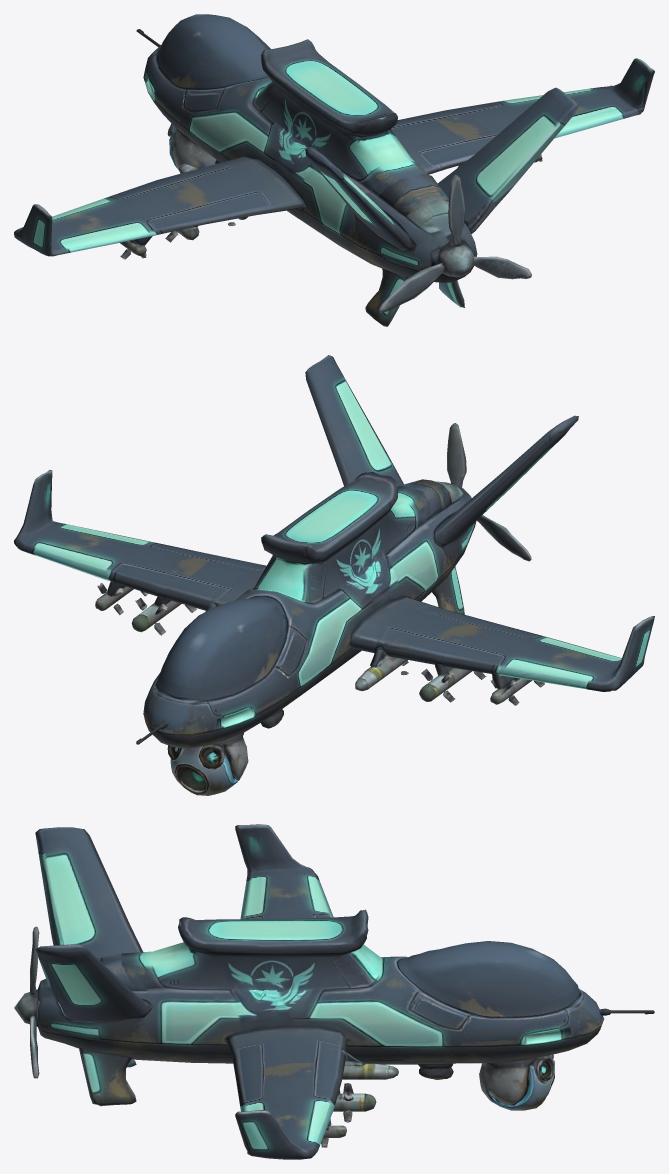
The model's file is mekong_uav.glb.
The picture shows the model from 3 angles, top to bottom: view 1: azimuth 30°, elevation 25°; view 2: azimuth 150°, elevation 25°; view 3: azimuth 270°, elevation 25°; orthographic projection. The views are drawn at different scales.
Visible parts, largest first — view 1: Body; view 2: Body; view 3: Body.
Boxes of the visible parts, x1,y1,x2,y2 form: Body: (14, 14, 654, 326); Body: (14, 355, 654, 795); Body: (14, 824, 654, 1159).
Bounding box in the file's own units: 9.56 × 3.42 × 9.
Materials: 1 (1 with a texture image).
